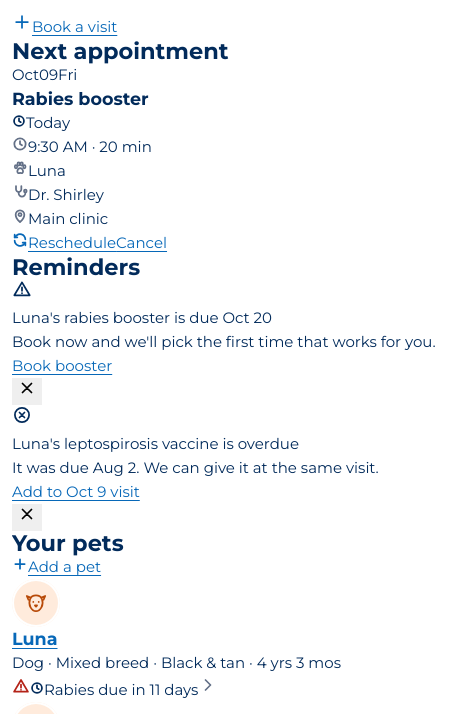
Test: CustomerOverview › dismisses a reminder
Click the button named "Dismiss reminder" below "Book booster": (27, 392) [12,378,42,405]
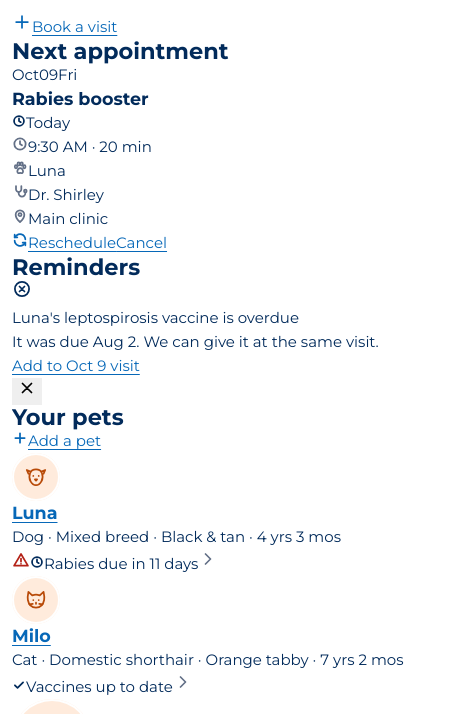
expect the text "Luna's rabies booster is due Oct 20" is gone: met
